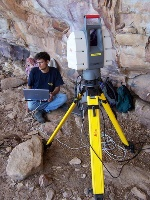person: (26, 53, 68, 124)
